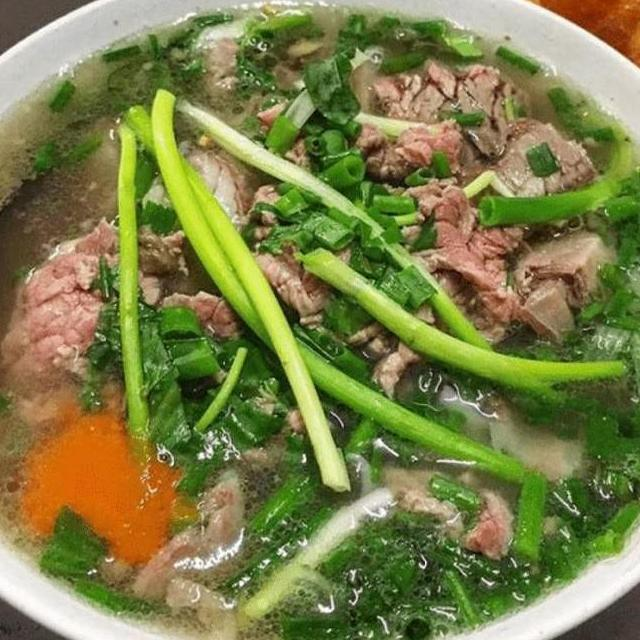thit bo: (0, 205, 195, 439), (364, 168, 540, 406), (242, 180, 415, 362), (252, 90, 472, 200), (365, 46, 538, 175), (123, 454, 257, 614), (369, 446, 525, 564), (445, 108, 599, 210)
